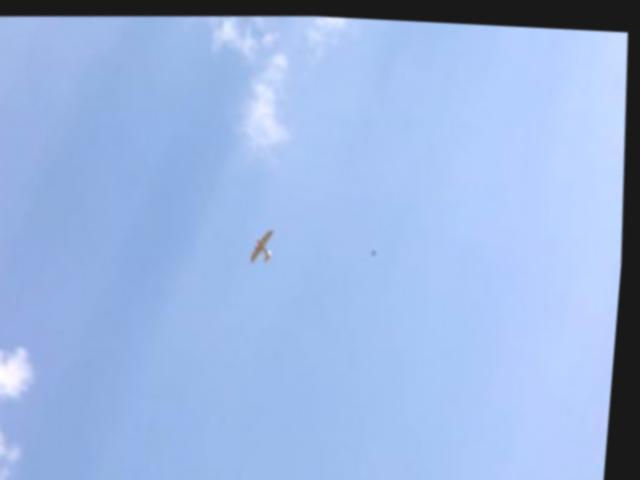uav: (252, 223, 280, 264)
